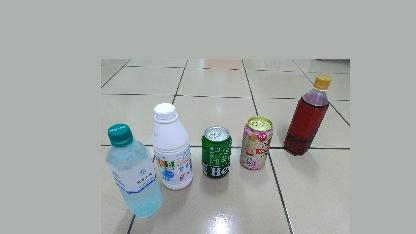Can: (240, 115, 274, 171), (200, 125, 232, 179)
Plastic Bottle: (105, 122, 163, 218), (283, 74, 332, 156), (150, 102, 194, 190)
